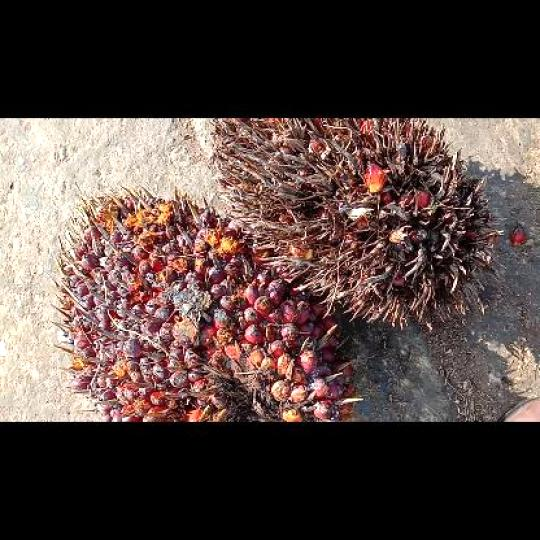masak: (51, 184, 362, 421)
terlalu masak: (207, 118, 502, 329)
